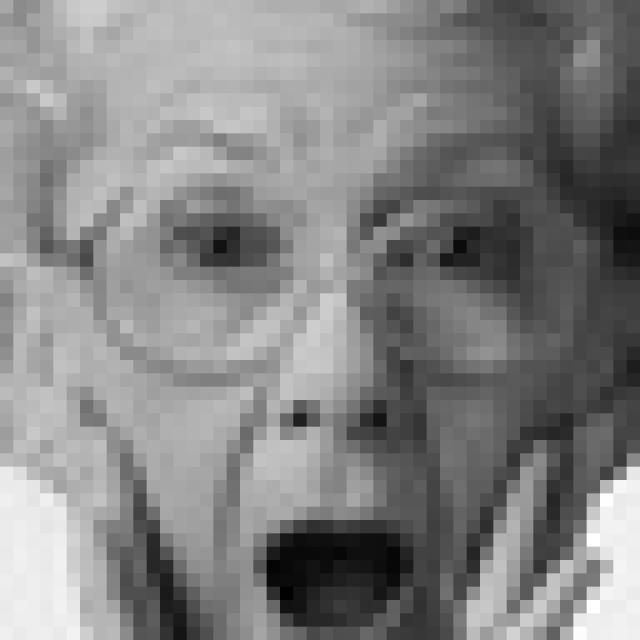surprise: (113, 123, 538, 640)
